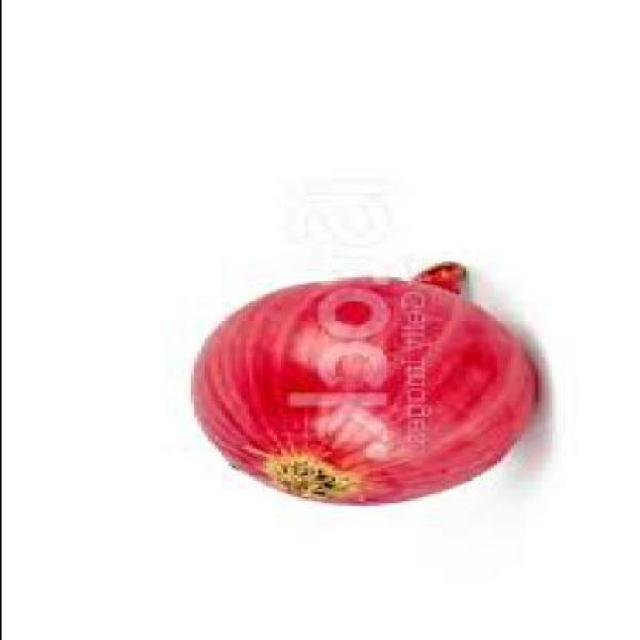BIODEGRADABLE: (186, 261, 537, 504)
